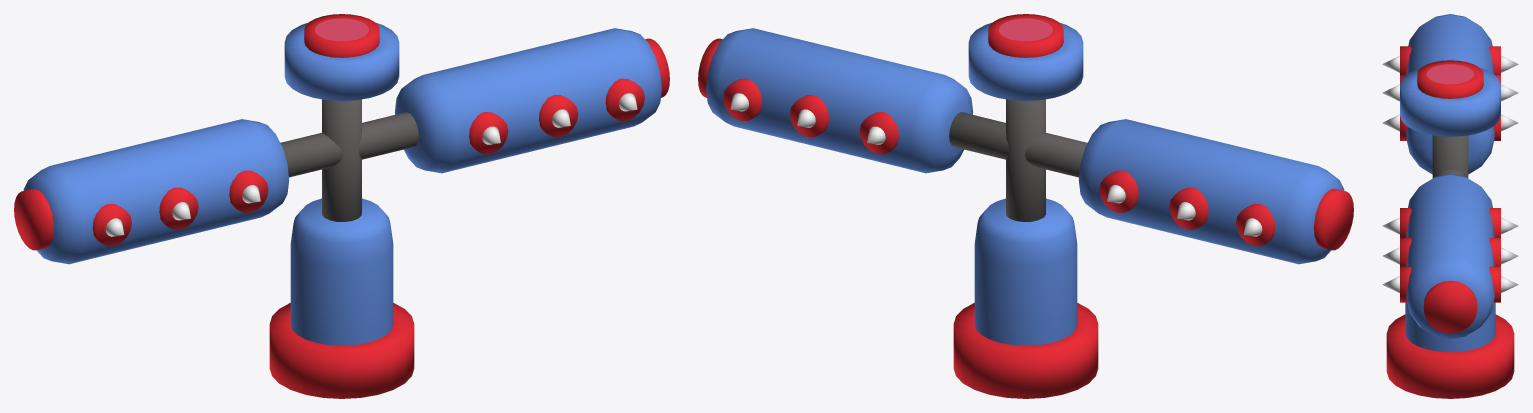
File: Obstacle 10 V1.fbx
The picture shows the model from 3 angles, left to right: view 1: azimuth 30°, elevation 25°; view 2: azimuth 150°, elevation 25°; view 3: azimuth 270°, elevation 25°; orthographic projection. The views are drawn at different scales.
Parts seen in each view (by area): view 1: O10 Part 1, O10 Part 2; view 2: O10 Part 1, O10 Part 2; view 3: O10 Part 1, O10 Part 2.
Part boxes in pixels (left/top/right/bottom): O10 Part 1: left=14, top=28, right=669, bottom=264; O10 Part 2: left=269, top=14, right=414, bottom=398; O10 Part 1: left=698, top=28, right=1353, bottom=264; O10 Part 2: left=953, top=14, right=1098, bottom=398; O10 Part 1: left=1382, top=14, right=1518, bottom=339; O10 Part 2: left=1386, top=60, right=1514, bottom=398.
Size of the model in its own units: 225 by 116 by 48.44.
1 material, 1 textured.
